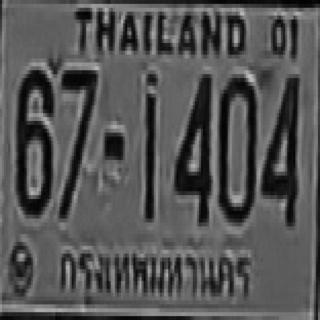N00: (218, 72, 255, 220)
N01: (144, 90, 154, 219)
N04: (260, 70, 298, 222), (173, 70, 210, 222)
N06: (14, 66, 51, 211)
N07: (58, 66, 96, 215)
P04: (54, 232, 259, 314)
